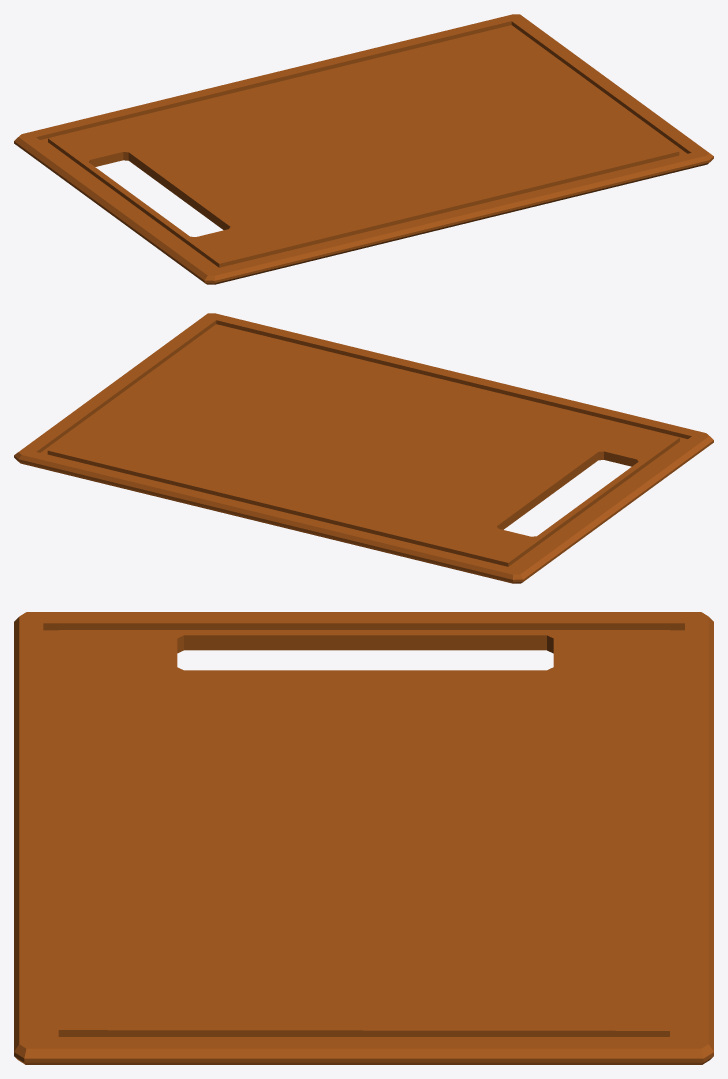
File: table.fbx
3 views of the same model, one above another, from view 1: azimuth 30°, elevation 25°; view 2: azimuth 150°, elevation 25°; view 3: azimuth 270°, elevation 25° (orthographic). The views are drawn at different scales.
Parts seen in each view (by area): view 1: Plane; view 2: Plane; view 3: Plane.
Boxes of the visible parts, bbox=[...] form: Plane: bbox=[14, 14, 713, 284]; Plane: bbox=[14, 313, 713, 583]; Plane: bbox=[14, 612, 713, 1064].
Size of the model in its own units: 212 by 3.37 by 141.
